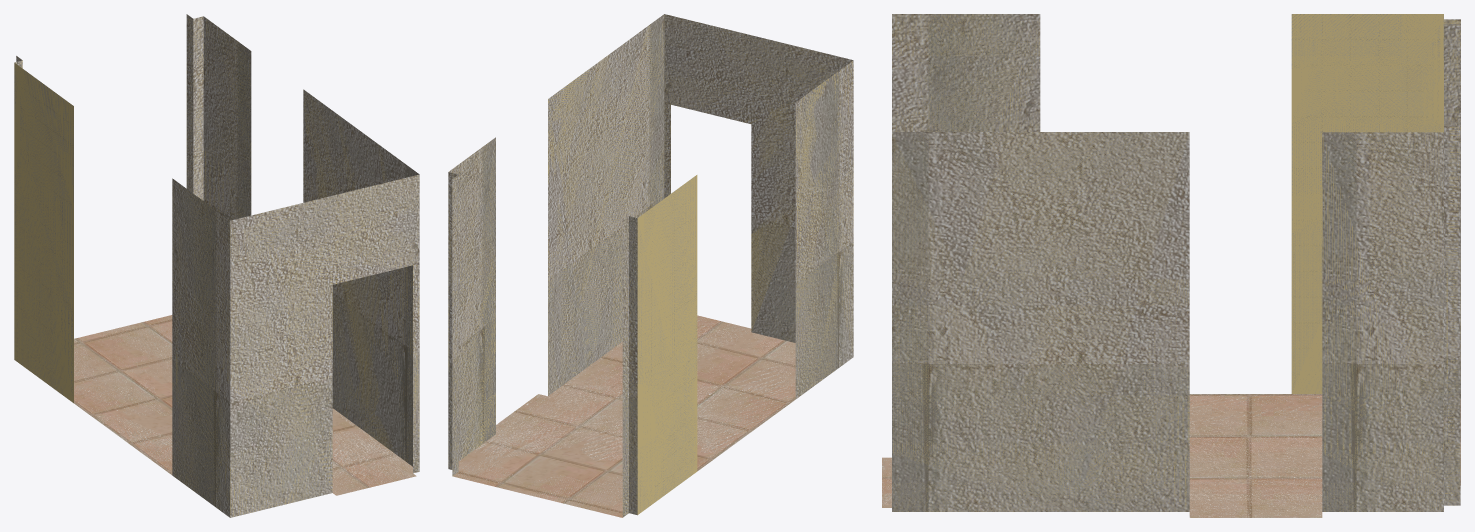
File: COM009.obj
3 renders of one model, left to right at view 1: azimuth 30°, elevation 25°; view 2: azimuth 150°, elevation 25°; view 3: azimuth 270°, elevation 25°, orthographic. The views are drawn at different scales.
Visible parts, largest first — view 1: Mesh1 COM009 Model; view 2: Mesh1 COM009 Model; view 3: Mesh1 COM009 Model.
Boxes of the visible parts, <box> form: Mesh1 COM009 Model: <box>14,14,419,517</box>; Mesh1 COM009 Model: <box>448,14,853,517</box>; Mesh1 COM009 Model: <box>882,14,1460,517</box>.
Size of the model in its own units: 2.1 by 3 by 4.14.
4 materials, 3 textured.
